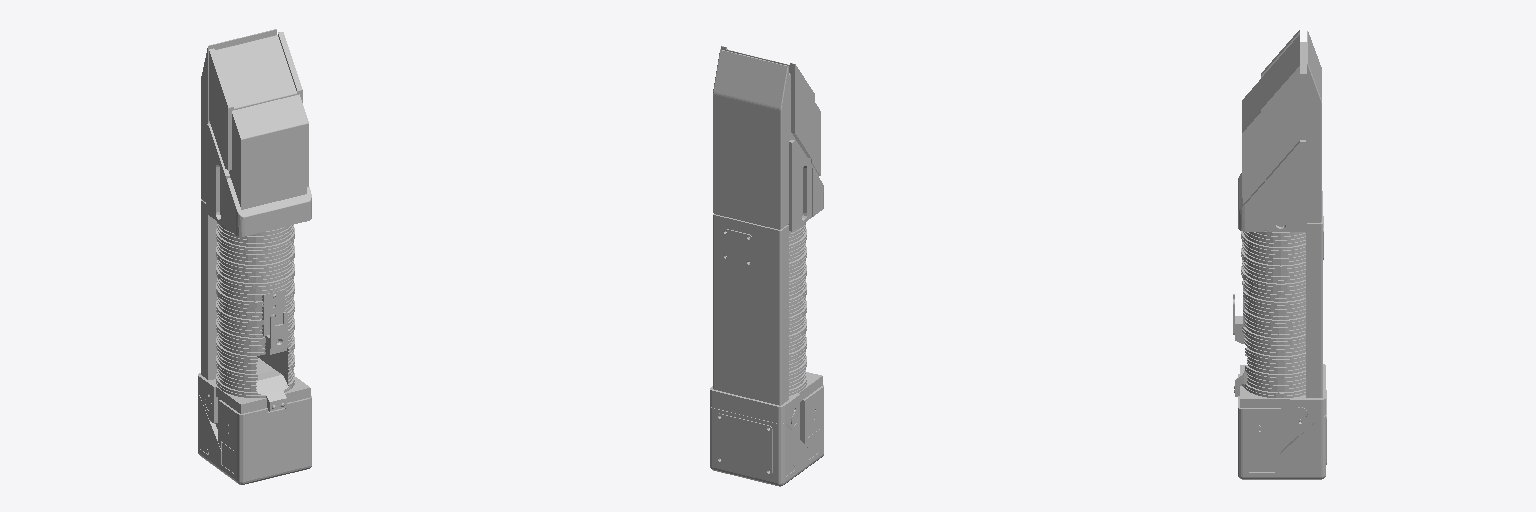
The model's file is laser.obj.
3 views of the same model, side by side, from view 1: azimuth 30°, elevation 25°; view 2: azimuth 150°, elevation 25°; view 3: azimuth 270°, elevation 25° (orthographic).
Visible parts, largest first — view 1: laser; view 2: laser; view 3: laser.
Part boxes in pixels (left/top/right/bottom): laser: left=198, top=29, right=311, bottom=484; laser: left=710, top=46, right=823, bottom=486; laser: left=1233, top=30, right=1326, bottom=479.
Size of the model in its own units: 12.85 by 68.69 by 14.1.